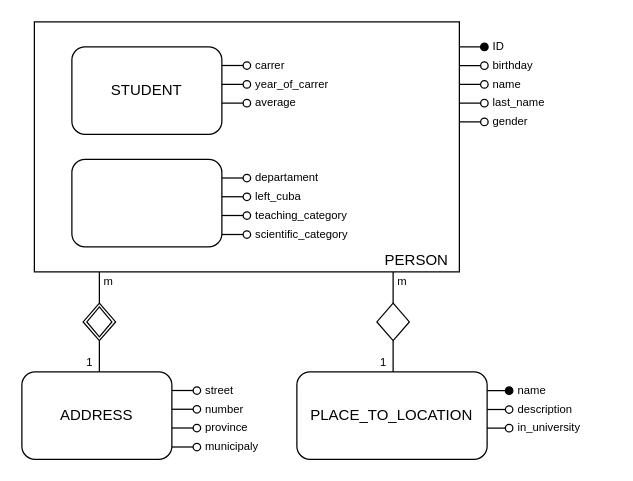
Image size: 633x481. Some labels were removed from this diagram. The centre of each missing label's shape, as x and y in pixels:
"PP" belongs at point 392,321.
"TEACHER" belongs at point 146,202.
